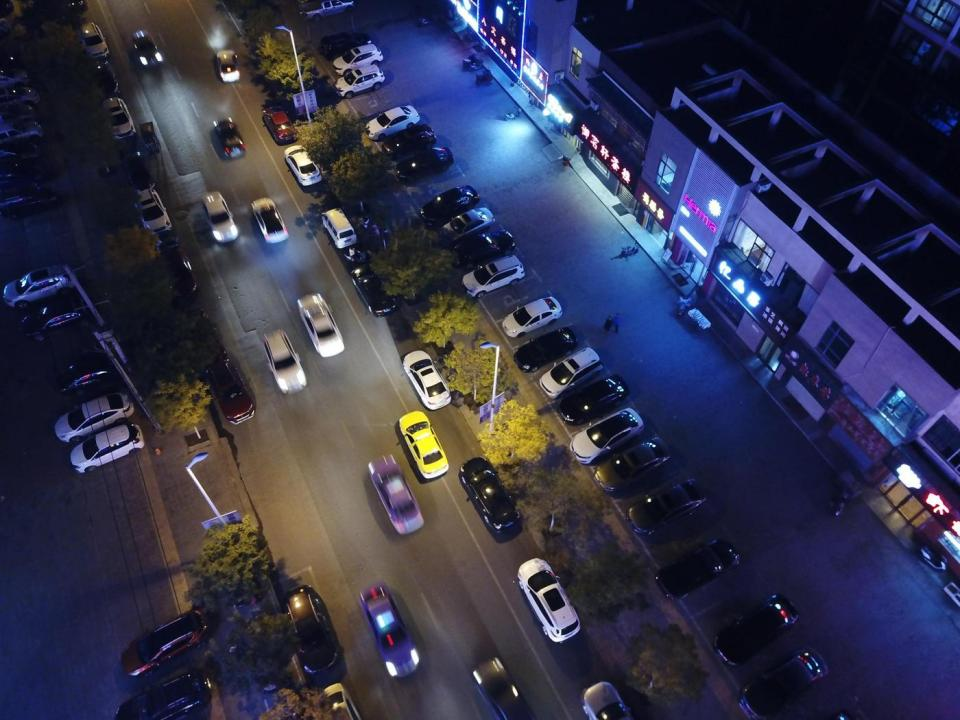car: (736, 646, 828, 719), (120, 609, 208, 677), (715, 594, 798, 666), (361, 584, 421, 676), (517, 557, 579, 641), (653, 540, 740, 598), (283, 585, 338, 673), (594, 436, 673, 494), (627, 478, 706, 535), (114, 674, 213, 719), (459, 458, 520, 531), (369, 455, 424, 533), (570, 408, 644, 463), (54, 392, 135, 442), (472, 657, 536, 720), (69, 422, 143, 472), (397, 408, 448, 480), (559, 375, 630, 425), (206, 358, 256, 423), (4, 264, 76, 309), (540, 348, 604, 398), (20, 296, 90, 340), (298, 293, 344, 359), (514, 327, 578, 374), (403, 350, 451, 410), (461, 255, 524, 298), (262, 328, 304, 392), (176, 308, 226, 358), (448, 231, 516, 267), (352, 263, 395, 319), (502, 297, 562, 337), (55, 357, 117, 394), (420, 186, 480, 224), (394, 146, 454, 182), (363, 105, 419, 140), (581, 681, 631, 720), (159, 248, 198, 297), (438, 207, 494, 241), (381, 124, 437, 157), (251, 195, 287, 243), (1, 189, 56, 220), (135, 188, 172, 234), (331, 45, 384, 76), (100, 96, 137, 140), (204, 190, 237, 239), (335, 65, 384, 98), (285, 146, 322, 185), (120, 150, 155, 190), (214, 116, 245, 158), (263, 105, 296, 144), (129, 29, 162, 65), (88, 60, 119, 96), (79, 22, 108, 59), (1, 164, 41, 188), (1, 121, 41, 142), (217, 50, 240, 81), (0, 87, 39, 104), (1, 104, 36, 122), (0, 70, 30, 86), (1, 146, 37, 158)
truck: (295, 1, 354, 20)
van: (318, 31, 371, 60), (321, 207, 356, 249)
